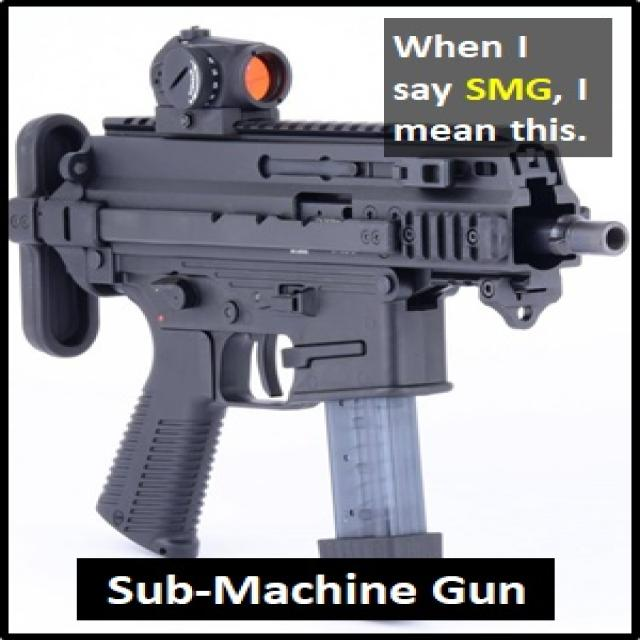Weapon: (13, 28, 629, 570)
